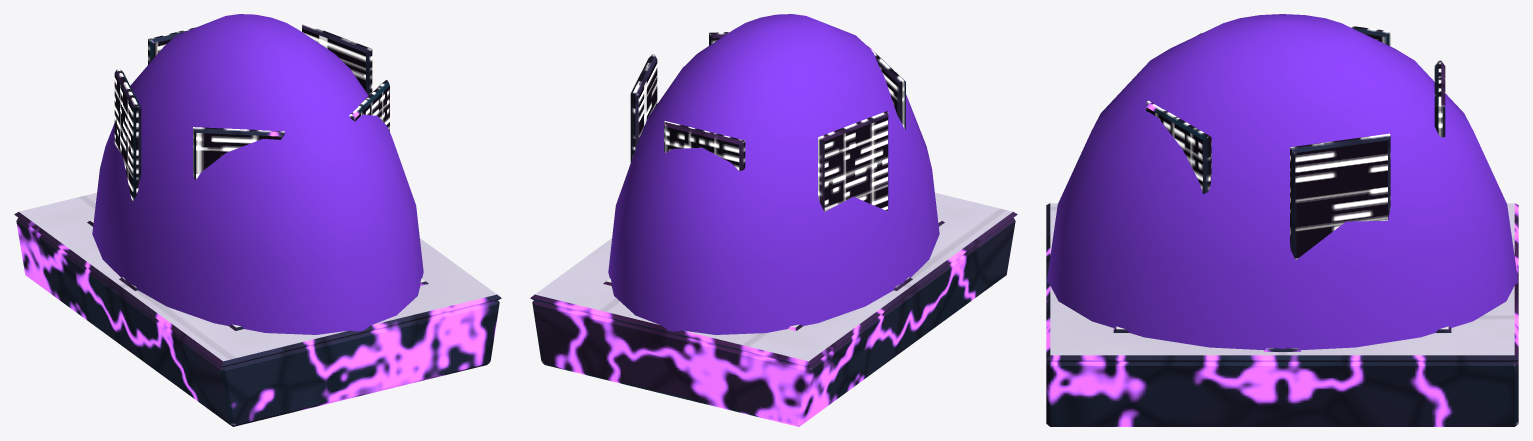
Rendered from cabina_ia_t5.fbx.
3 views of the same model, side by side, from view 1: azimuth 30°, elevation 25°; view 2: azimuth 150°, elevation 25°; view 3: azimuth 270°, elevation 25° (orthographic). The views are drawn at different scales.
Parts seen in each view (by area): view 1: cabina_ia_t5_cristal, cabina_ia_t5; view 2: cabina_ia_t5_cristal, cabina_ia_t5; view 3: cabina_ia_t5_cristal, cabina_ia_t5.
Part boxes in pixels (x1=…): cabina_ia_t5_cristal: x1=92, y1=14, x2=423, y2=334; cabina_ia_t5: x1=14, y1=23, x2=501, y2=426; cabina_ia_t5_cristal: x1=608, y1=14, x2=939, y2=334; cabina_ia_t5: x1=530, y1=32, x2=1017, y2=426; cabina_ia_t5_cristal: x1=1046, y1=14, x2=1518, y2=349; cabina_ia_t5: x1=1046, y1=25, x2=1518, y2=426.
Bounding box in the file's own units: 2.8 × 2.99 × 3.6.
